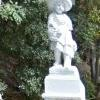Statue: (36, 5, 87, 97)
